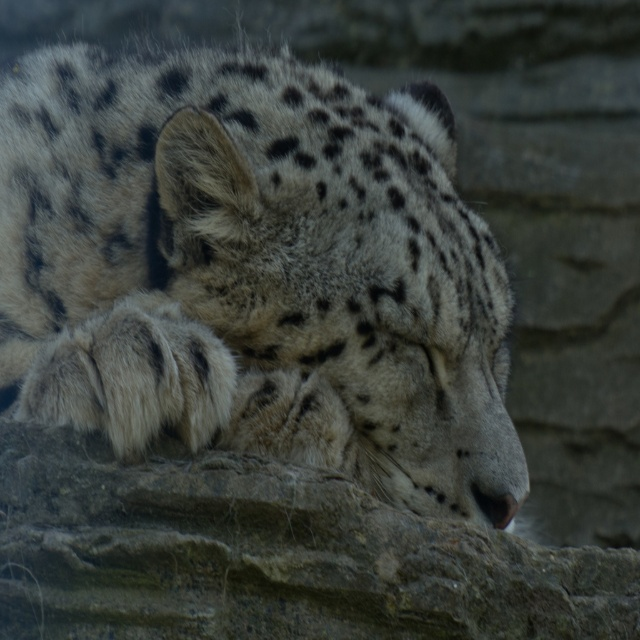Cheetah: (0, 0, 529, 553)
